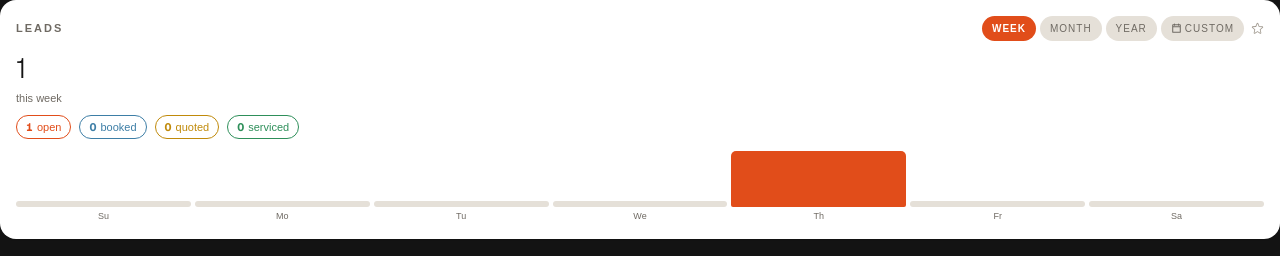
Test: TrendCard › defaults to WEEK bars and switches to sparkline on MONTH
Expected: the element with test id "trend-bars" is shown, [16,151,1264,223]
Click the button "MONTH": [1071, 28] box [1040,16,1102,41]
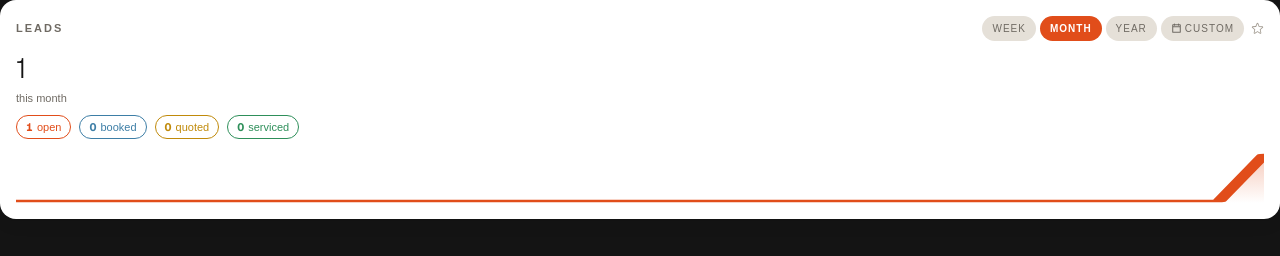
Result: the icon with test id "trend-spark" is shown at [16,151,1264,203]
